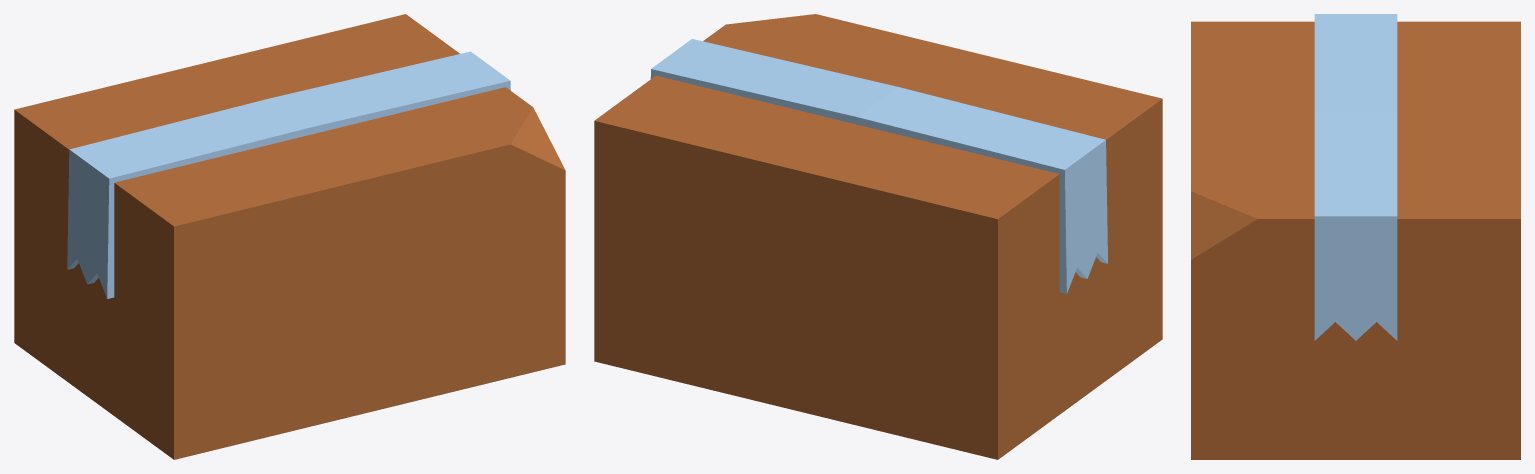
3 views of the same model, side by side, from view 1: azimuth 30°, elevation 25°; view 2: azimuth 150°, elevation 25°; view 3: azimuth 270°, elevation 25° (orthographic). The views are drawn at different scales.
Parts seen in each view (by area): view 1: Box_Body, Box_Outside_Flap1, Box_Inside_Flap2, Box_Inside_Flap1; view 2: Box_Body, Box_Outside_Flap2, Box_Inside_Flap2; view 3: Box_Body, Box_Inside_Flap1, Box_Outside_Flap1, Box_Outside_Flap2.
Boxes of the visible parts, box(x1,y1,x2,y2) form: Box_Body: box(14, 14, 565, 455); Box_Outside_Flap1: box(94, 360, 565, 459); Box_Inside_Flap2: box(14, 335, 304, 455); Box_Inside_Flap1: box(435, 357, 565, 392); Box_Body: box(594, 14, 1162, 455); Box_Outside_Flap2: box(594, 357, 1080, 459); Box_Inside_Flap2: box(905, 350, 1140, 455); Box_Body: box(1191, 14, 1520, 455); Box_Inside_Flap1: box(1191, 452, 1520, 455); Box_Outside_Flap1: box(1191, 456, 1355, 459); Box_Outside_Flap2: box(1356, 456, 1520, 459).
Bounding box in the file's own units: 0.5479 × 0.3109 × 0.3741.
Materials: 1 (1 with a texture image).
